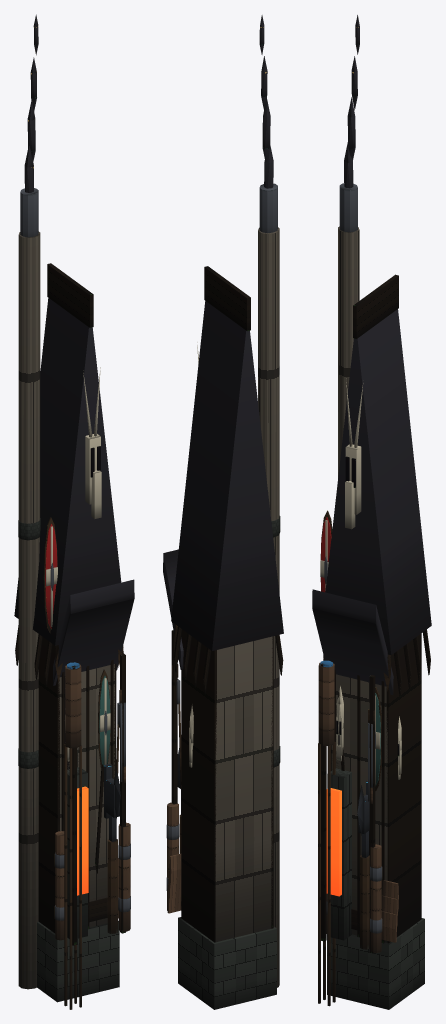
Rendered from blacksmith.gltf.
3 views of the same model, side by side, from view 1: azimuth 30°, elevation 25°; view 2: azimuth 210°, elevation 25°; view 3: azimuth 330°, elevation 25° (orthographic).
Parts seen in each view (by area): view 1: blacksmith; view 2: blacksmith; view 3: blacksmith.
Part boxes in pixels (x1,y1,x2,y2): blacksmith: (14, 14, 134, 1009); blacksmith: (163, 15, 283, 1009); blacksmith: (312, 15, 431, 1009).
Bounding box in the file's own units: 1.34 × 14.82 × 1.55.
Materials: 1 (1 with a texture image).
